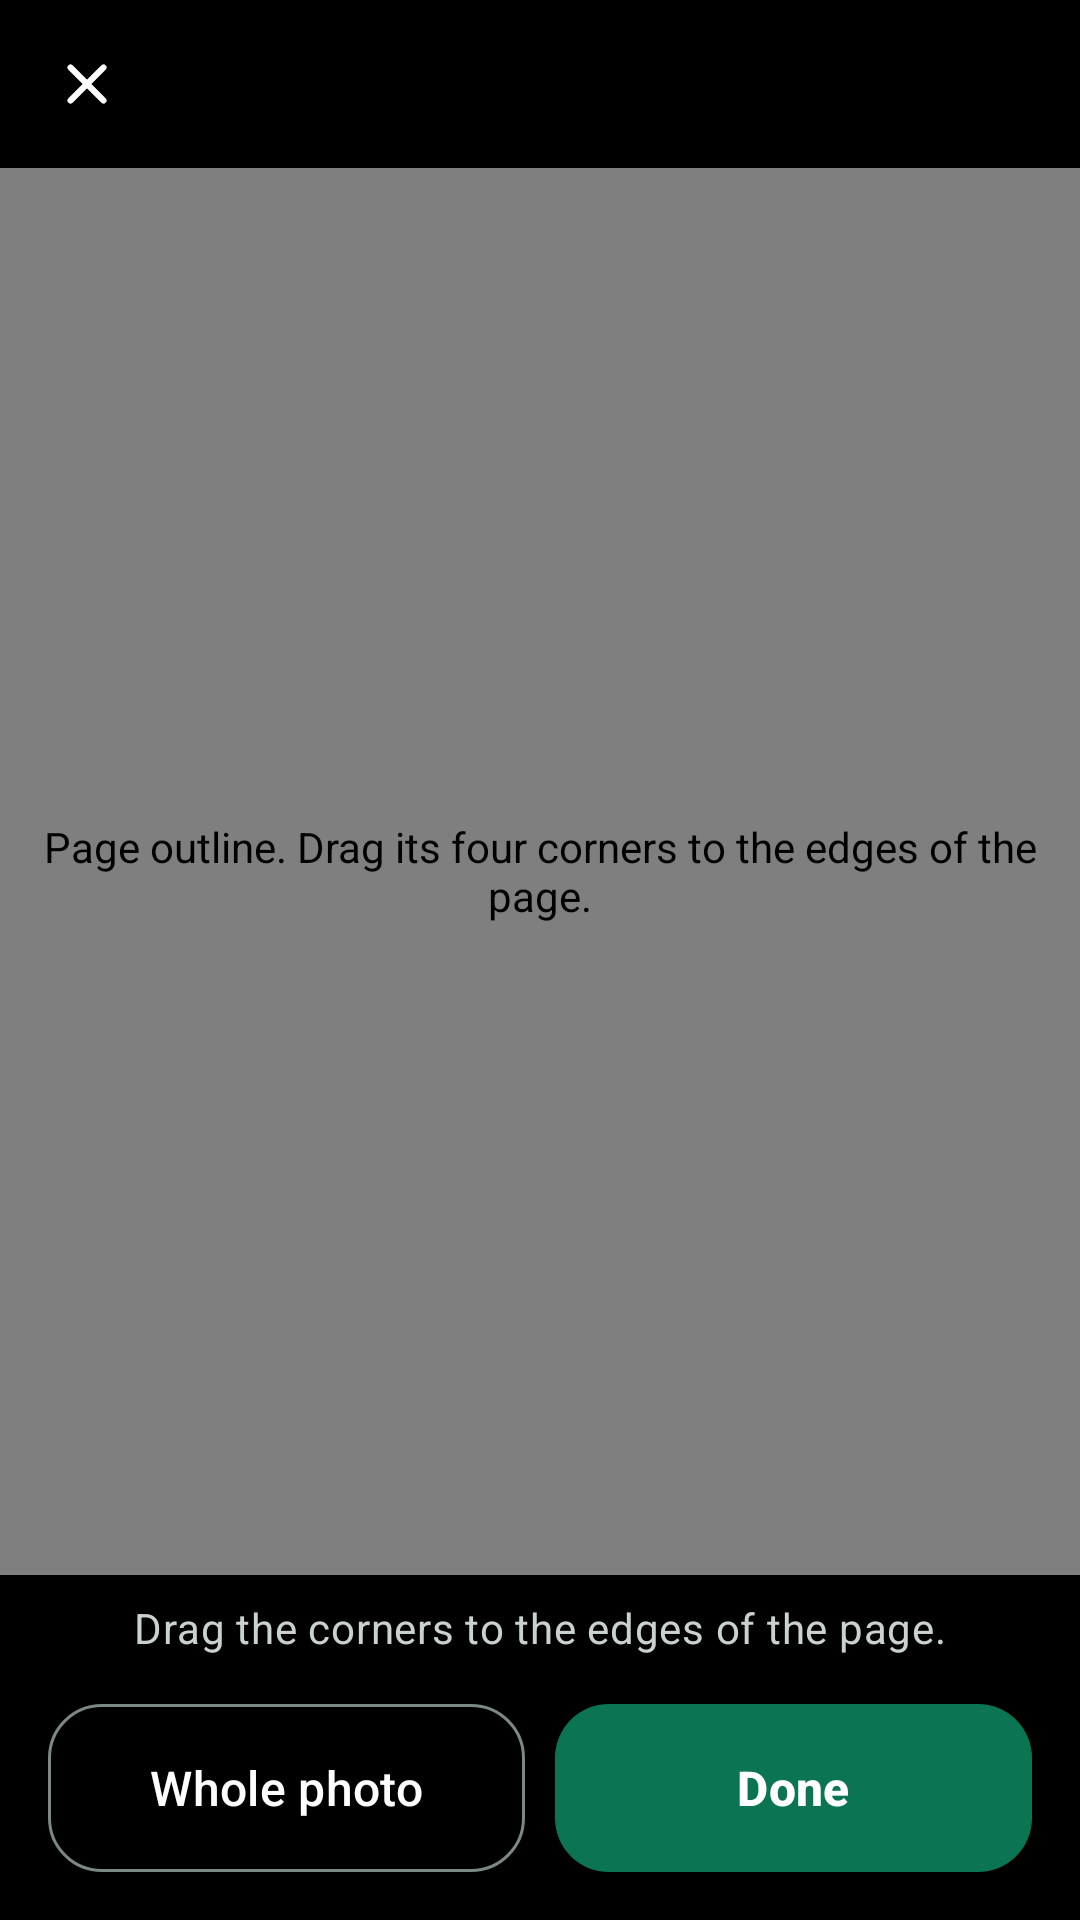

Locate icon controls on the screen. Image size 1080*1920, boxes as (x1, y1, x2, y2).
Cancel: (67, 64, 107, 104)
